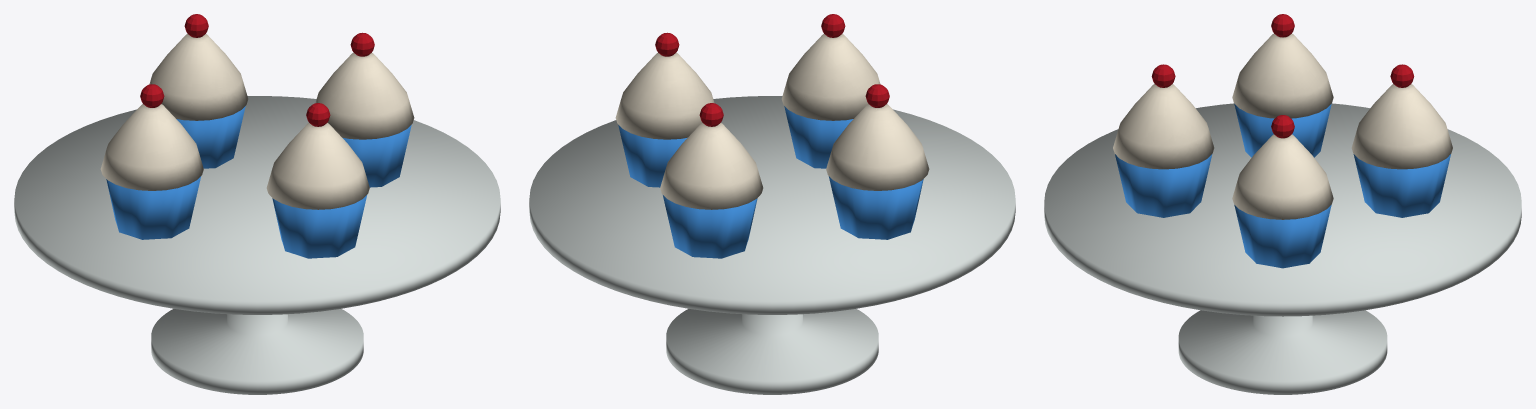
Rendered from cupcakes-vanilla.glb.
3 renders of one model, left to right at view 1: azimuth 30°, elevation 25°; view 2: azimuth 150°, elevation 25°; view 3: azimuth 270°, elevation 25°, orthographic.
Parts seen in each view (by area): view 1: stand_glass, icing_primary, liner, berry; view 2: stand_glass, icing_primary, liner, berry; view 3: stand_glass, icing_primary, liner, berry.
Part boxes in pixels (x1,y1,x2,y2): stand_glass: (14, 96, 500, 394); icing_primary: (100, 34, 414, 209); liner: (106, 106, 411, 258); berry: (140, 14, 374, 126); stand_glass: (529, 96, 1015, 394); icing_primary: (615, 34, 929, 209); liner: (618, 106, 923, 258); berry: (655, 14, 889, 126); stand_glass: (1044, 103, 1521, 394); icing_primary: (1113, 33, 1452, 219); liner: (1115, 104, 1450, 268); berry: (1151, 14, 1414, 138).
Bounding box in the file's own units: 0.32 × 0.211 × 0.32.
Materials: 4 (2 with a texture image).
